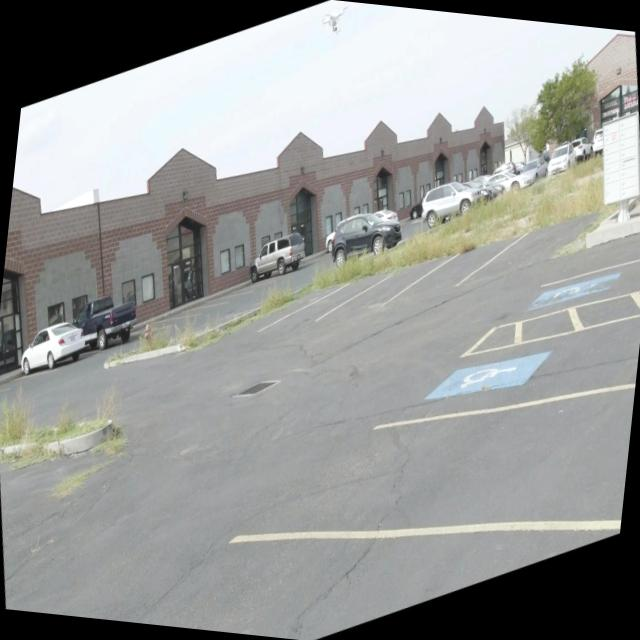drone: (315, 0, 348, 43)
